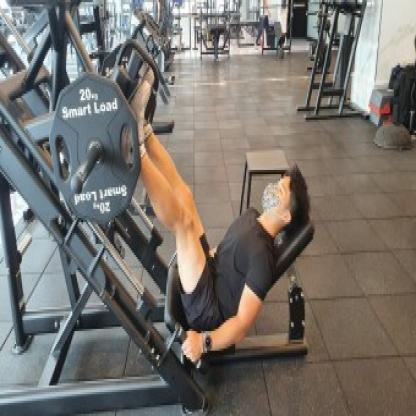leg press: (1, 2, 322, 416)
